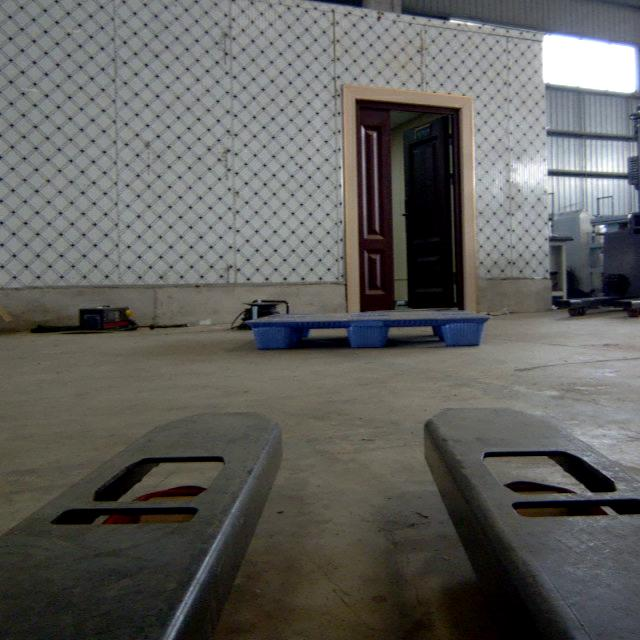block: (441, 317, 490, 346), (244, 320, 294, 348), (348, 319, 391, 347)
front: (246, 316, 490, 348)
hole pallet: (384, 325, 445, 346), (291, 328, 352, 347)
